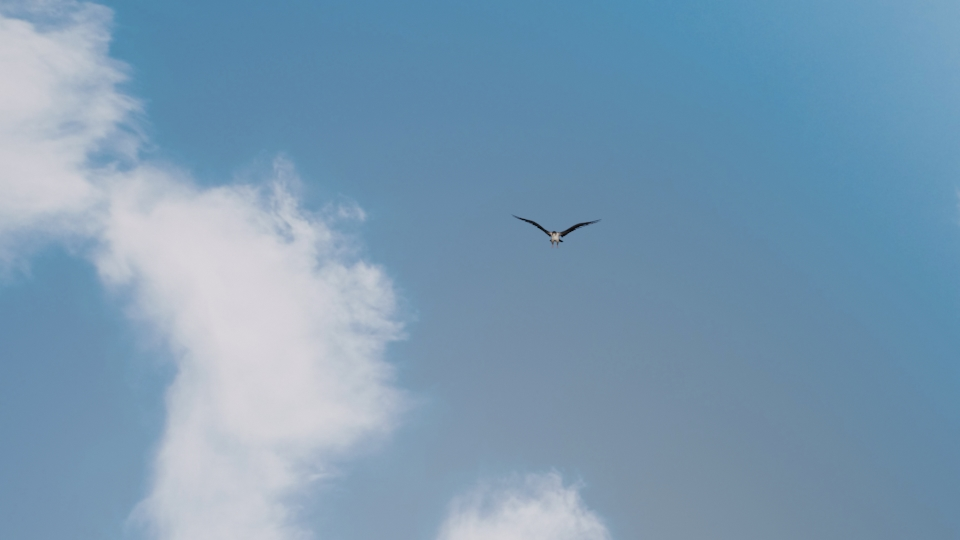bird: (504, 213, 601, 248)
